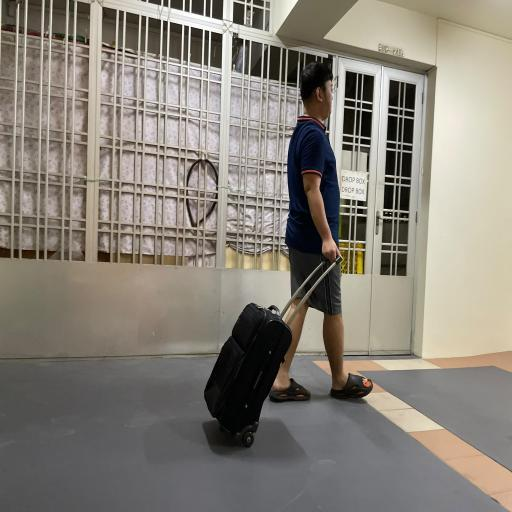person_right: (202, 45, 377, 459)
